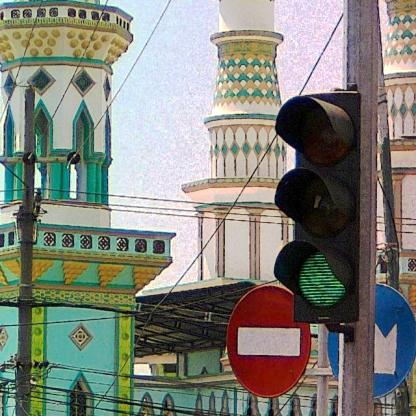Traffic Light -Green-: (273, 90, 358, 320)
